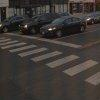Crosswalk: (3, 34, 96, 79)
